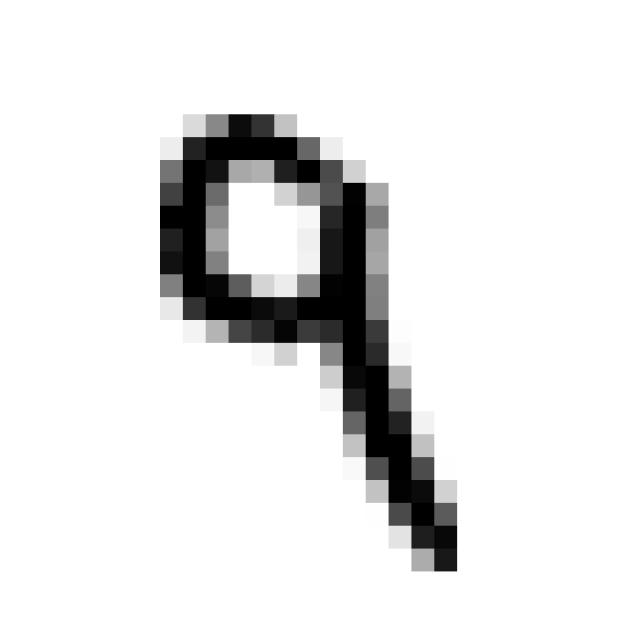9 -nine-: (144, 94, 482, 600)
